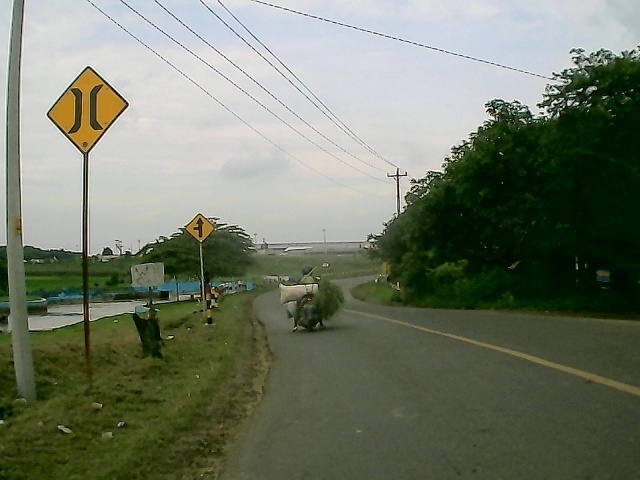Jembatan: (44, 64, 131, 156)
Simpang kiri dengan prioritas: (185, 211, 216, 244)
